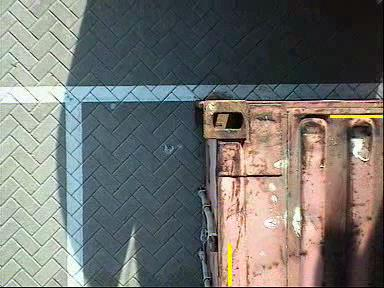groundmarker_2: (93, 179, 195, 252)
